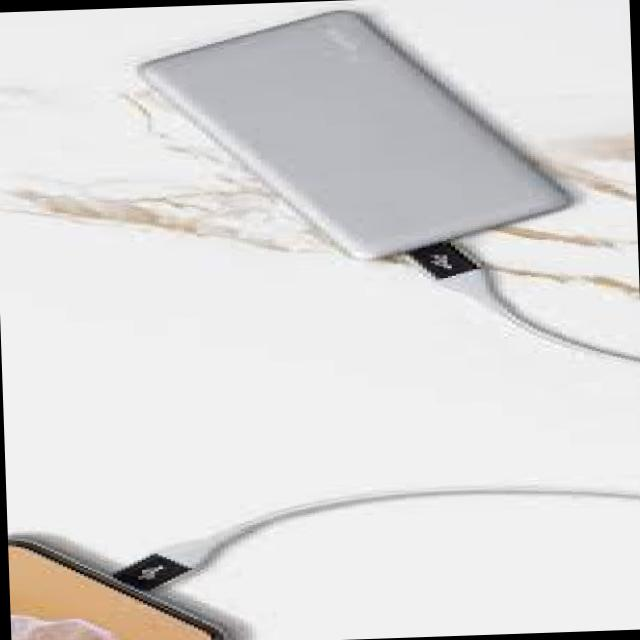portable-charger: (121, 0, 581, 271)
